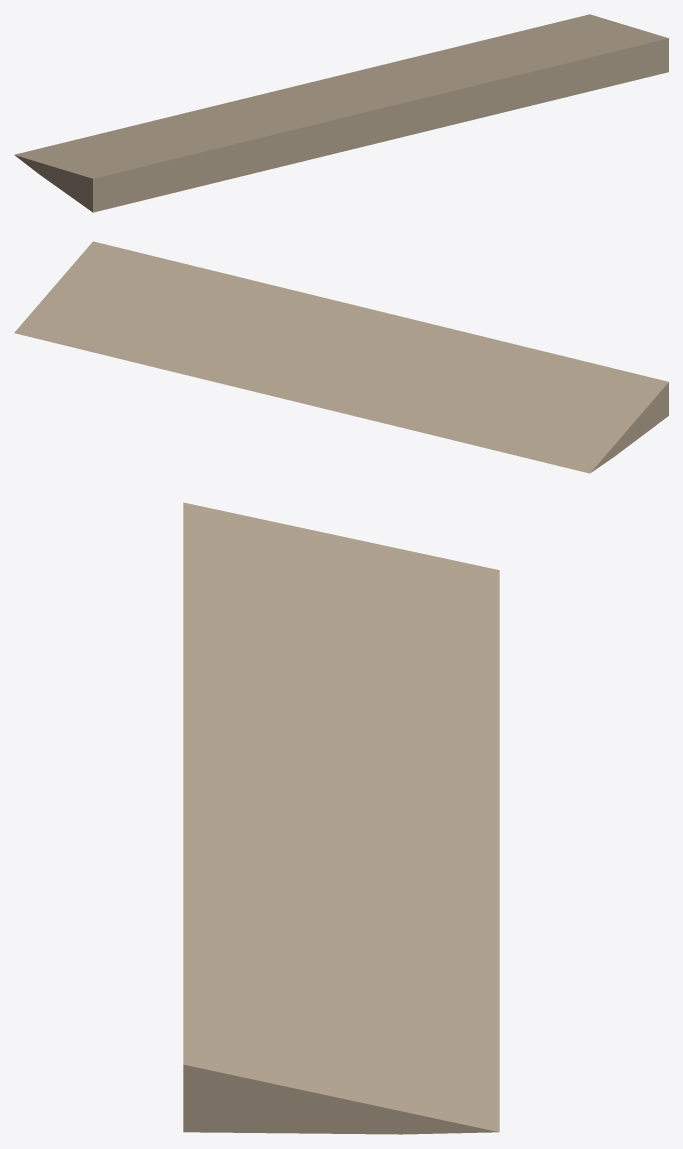
The model's file is ramp.fbx.
The picture shows the model from 3 angles, top to bottom: view 1: azimuth 30°, elevation 25°; view 2: azimuth 150°, elevation 25°; view 3: azimuth 270°, elevation 25°; orthographic projection. The views are drawn at different scales.
Parts seen in each view (by area): view 1: Ramp; view 2: Ramp; view 3: Ramp.
Boxes of the visible parts, x1,y1,x2,y2 form: Ramp: [14, 14, 668, 212]; Ramp: [14, 241, 668, 473]; Ramp: [183, 502, 499, 1134].
Size of the model in its own units: 796 by 46.2 by 189.
